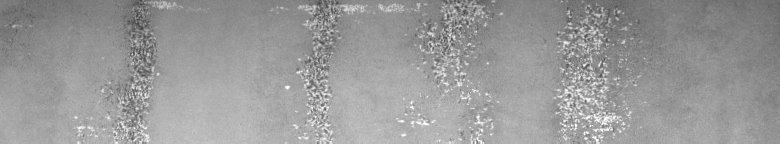hc: (285, 4, 343, 115)
